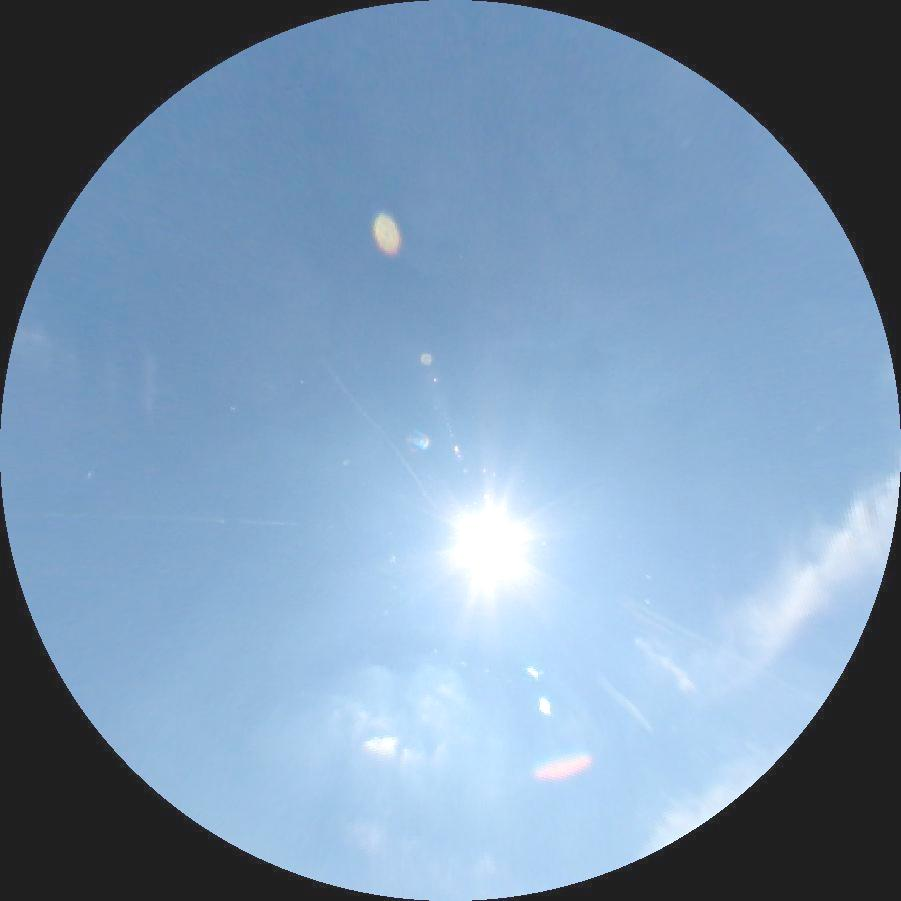contrail old: (316, 356, 440, 507), (595, 673, 658, 736)
parasite: (642, 606, 822, 709), (5, 507, 299, 527), (636, 612, 716, 660)
sun: (437, 495, 538, 597)
